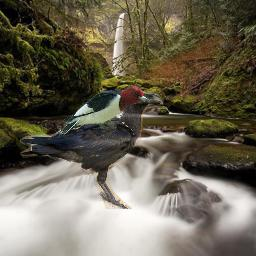Crow: (20, 91, 164, 209)
Woodpecker: (53, 82, 154, 140)
